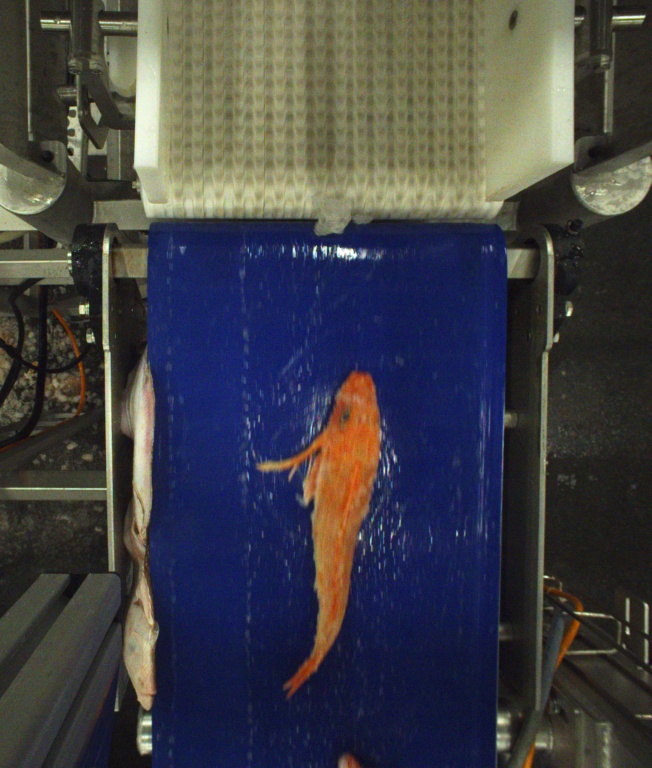GUU: (335, 750, 358, 768)
